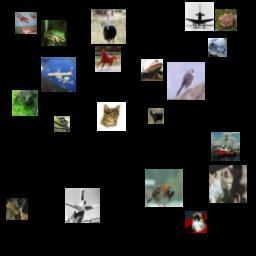airplane: (65, 188, 100, 223), (41, 57, 76, 92), (185, 2, 214, 31), (15, 12, 37, 34), (141, 59, 163, 81)
bird: (167, 62, 205, 100), (145, 169, 183, 207), (91, 9, 126, 44), (54, 116, 70, 132)
cat: (209, 165, 247, 203), (97, 102, 126, 131)
deer: (6, 198, 28, 220), (148, 108, 164, 124)
dog: (185, 211, 207, 233)
frog: (41, 20, 67, 46), (12, 90, 38, 116), (215, 9, 237, 31)
ship: (211, 132, 240, 161), (208, 38, 227, 57)
